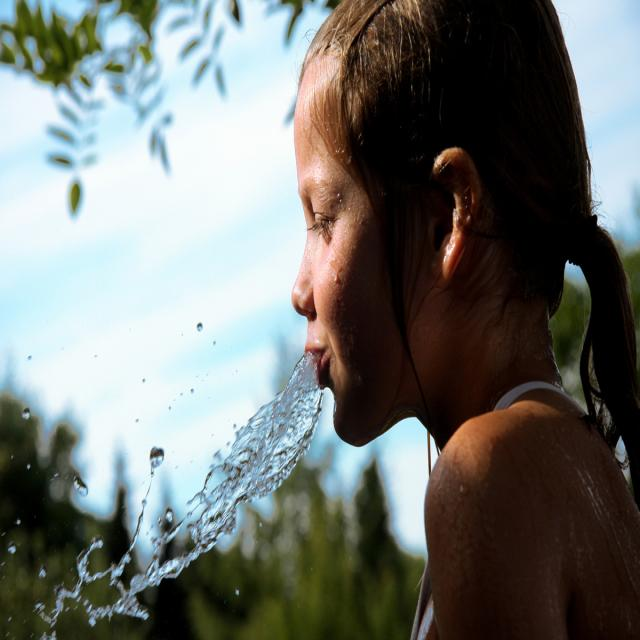Spitting: (227, 2, 592, 499)
